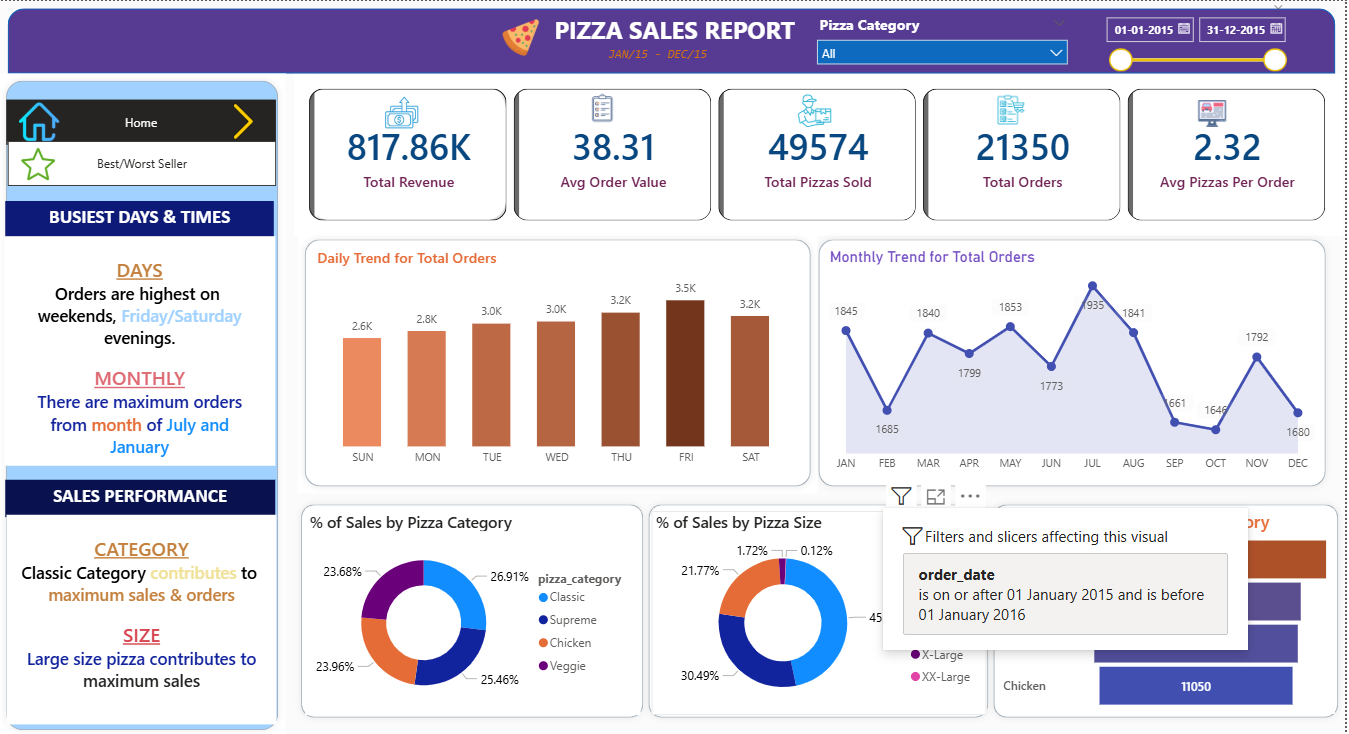

The page's visual inventory and layout, read from the dashboard file:
{"tool":"powerbi","page":{"name":"Home","canvas":[1500,820],"ordinal":0},"visuals":[{"type":"cardVisual","fields":{"Data":["pizza_sales_excel_file.Total Revenue","pizza_sales_excel_file.Avg Order Value","pizza_sales_excel_file.Total Pizzas Sold","pizza_sales_excel_file.Total Orders","pizza_sales_excel_file.Avg Pizzas Per Order"]},"box":[328.7,80.8,1168.5,181],"z":0},{"type":"shape","box":[9.7,8.4,1479,72.4],"z":1000},{"type":"textbox","box":[597.1,8.8,310.3,52.9],"z":2000},{"type":"textbox","box":[673.5,44.1,123.5,29.4],"z":3000},{"type":"image","box":[552.9,19.1,57.4,42.6],"z":4000},{"type":"image","box":[395.6,102.9,105.9,42.6],"z":5000},{"type":"image","box":[886.8,102.9,42.6,38.2],"z":6000},{"type":"image","box":[1110.3,104.4,35.3,33.8],"z":7000},{"type":"image","box":[641.2,102.9,63.2,32.4],"z":8000},{"type":"shape","box":[0,80.8,318.9,739.5],"z":9000},{"type":"textbox","box":[5.6,261.8,302.2,256.3],"z":10000},{"type":"image","box":[1335.3,98.5,32.4,52.9],"z":11000},{"type":"shape","box":[328.7,552.9,396.9,253.5],"z":12000},{"type":"shape","box":[905.2,257.6,580.7,291.1],"z":13000},{"type":"areaChart","title":"Monthly Trend for Total Orders","fields":{"Category":["pizza_sales_excel_file.Order Month"],"Y":["pizza_sales_excel_file.Total Orders"]},"box":[920.6,274.4,550.1,259],"z":14000},{"type":"shape","box":[715.8,552.9,394.1,253.5],"z":15000},{"type":"shape","box":[1100.2,552.9,399.7,253.5],"z":16000},{"type":"shape","box":[332.8,257.6,579.4,291.1],"z":17000},{"type":"textbox","box":[7,222.8,299.4,39],"z":18000},{"type":"donutChart","title":"% of Sales by Pizza Category","fields":{"Category":["pizza_sales_excel_file.pizza_category"],"Y":["pizza_sales_excel_file.Total Revenue"]},"box":[341.2,568.2,373.2,227],"z":19000},{"type":"columnChart","title":"Daily Trend for Total Orders ","fields":{"Category":["pizza_sales_excel_file.Order Day"],"Y":["pizza_sales_excel_file.Total Orders"]},"box":[349.6,274.4,544.5,252.1],"z":20000},{"type":"donutChart","title":"% of Sales by Pizza Size","fields":{"Y":["pizza_sales_excel_file.Total Revenue"],"Category":["pizza_sales_excel_file.pizza_size"]},"box":[727,568.2,373.2,227],"z":21000},{"type":"funnel","title":"Total Pizzas Sold by Pizza Category","fields":{"Category":["pizza_sales_excel_file.pizza_category"],"Y":["pizza_sales_excel_file.Total Pizzas Sold"]},"box":[1114.1,566.8,374.6,227],"z":22000},{"type":"textbox","box":[7,533.4,300.8,41.8],"z":23000},{"type":"textbox","box":[8.4,572.4,300.8,234],"z":24000},{"type":"slicer","fields":{"Values":["pizza_sales_excel_file.pizza_category"]},"box":[901.1,9.7,299.4,64.1],"z":25000},{"type":"slicer","fields":{"Values":["pizza_sales_excel_file.order_date"]},"box":[1221.4,0,221.4,98.9],"z":26000},{"type":"pageNavigator","box":[8.4,110,300.8,50.1],"z":27000},{"type":"pageNavigator","box":[9.7,156,299.4,50.1],"z":28000},{"type":"image","box":[235.4,114.2,73.8,40.4],"z":29000},{"type":"image","box":[22.3,111.4,44.6,46],"z":30000},{"type":"image","box":[0,162.9,87.7,37.6],"z":31000}]}

Visuals, with their boxes on the page's 1500x820 design canvas (x1, y1, x2, y2). These are canvas units, not pixel positions in the 1349x734 screenshot, which may show the page scaled, cropped or inside an application window:
cardVisual - pizza_sales_excel_file.Total Revenue x pizza_sales_excel_file.Avg Order Value: select_region(329, 81, 1497, 262)
shape: select_region(10, 8, 1489, 81)
textbox: select_region(597, 9, 907, 62)
textbox: select_region(674, 44, 797, 74)
image: select_region(553, 19, 610, 62)
image: select_region(396, 103, 502, 146)
image: select_region(887, 103, 929, 141)
image: select_region(1110, 104, 1146, 138)
image: select_region(641, 103, 704, 135)
shape: select_region(0, 81, 319, 820)
textbox: select_region(6, 262, 308, 518)
image: select_region(1335, 98, 1368, 151)
shape: select_region(329, 553, 726, 806)
shape: select_region(905, 258, 1486, 549)
"Monthly Trend for Total Orders" areaChart: select_region(921, 274, 1471, 533)
shape: select_region(716, 553, 1110, 806)
shape: select_region(1100, 553, 1500, 806)
shape: select_region(333, 258, 912, 549)
textbox: select_region(7, 223, 306, 262)
"% of Sales by Pizza Category" donutChart: select_region(341, 568, 714, 795)
"Daily Trend for Total Orders " columnChart: select_region(350, 274, 894, 526)
"% of Sales by Pizza Size" donutChart: select_region(727, 568, 1100, 795)
"Total Pizzas Sold by Pizza Category" funnel: select_region(1114, 567, 1489, 794)
textbox: select_region(7, 533, 308, 575)
textbox: select_region(8, 572, 309, 806)
slicer - pizza_sales_excel_file.pizza_category: select_region(901, 10, 1200, 74)
slicer - pizza_sales_excel_file.order_date: select_region(1221, 0, 1443, 99)
pageNavigator: select_region(8, 110, 309, 160)
pageNavigator: select_region(10, 156, 309, 206)
image: select_region(235, 114, 309, 155)
image: select_region(22, 111, 67, 157)
image: select_region(0, 163, 88, 200)
